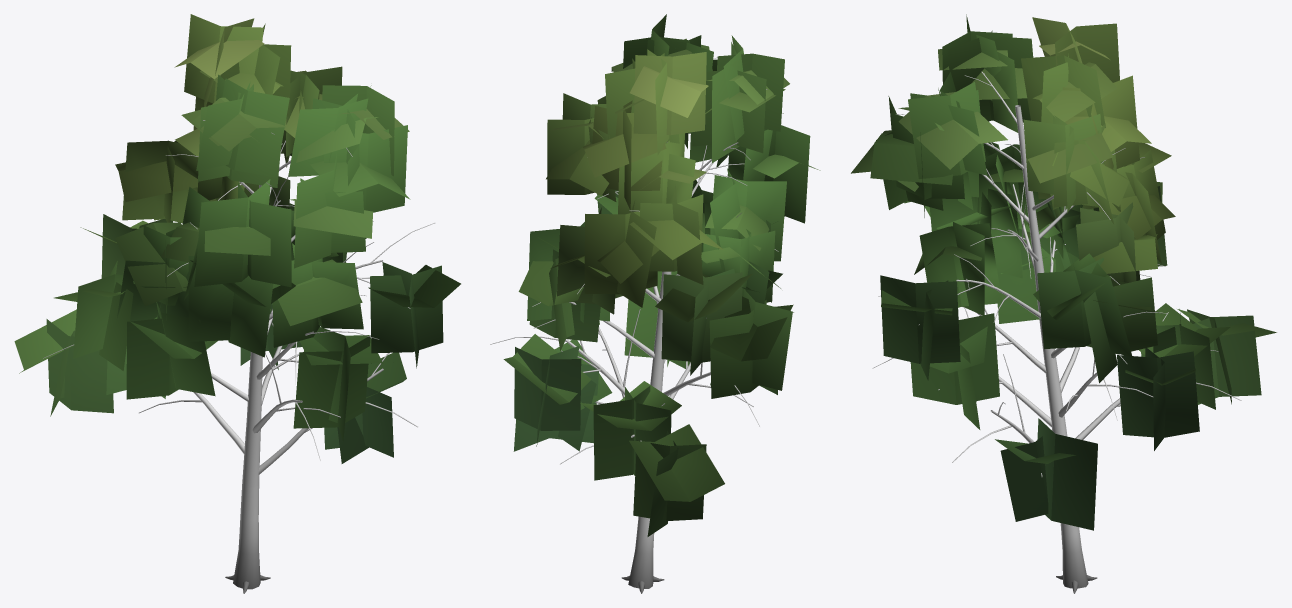
File: birch.glb
The picture shows the model from 3 angles, left to right: view 1: azimuth 30°, elevation 25°; view 2: azimuth 150°, elevation 25°; view 3: azimuth 270°, elevation 25°; orthographic projection. The views are drawn at different scales.
Parts seen in each view (by area): view 1: isl_birch; view 2: isl_birch; view 3: isl_birch.
Part boxes in pixels (x1,y1,x2,y2): isl_birch: (14, 14, 460, 593); isl_birch: (490, 14, 820, 593); isl_birch: (851, 14, 1276, 593).
Size of the model in its own units: 5.97 by 10.51 by 7.43.
